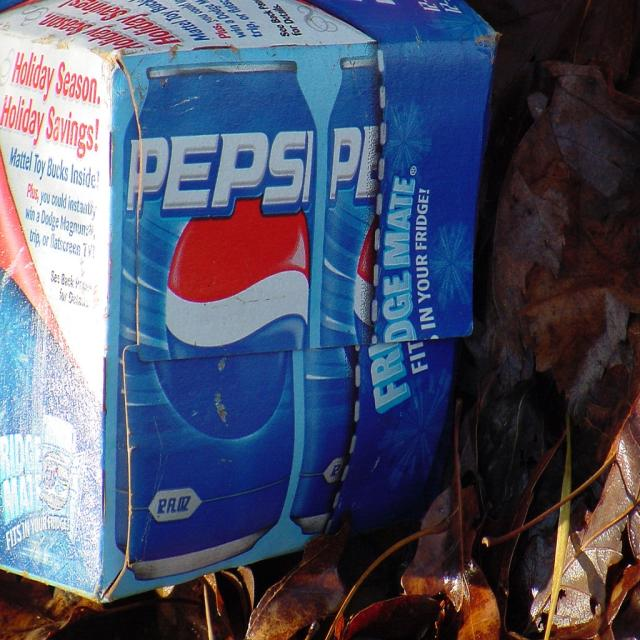pepsi: (154, 199, 324, 454)
